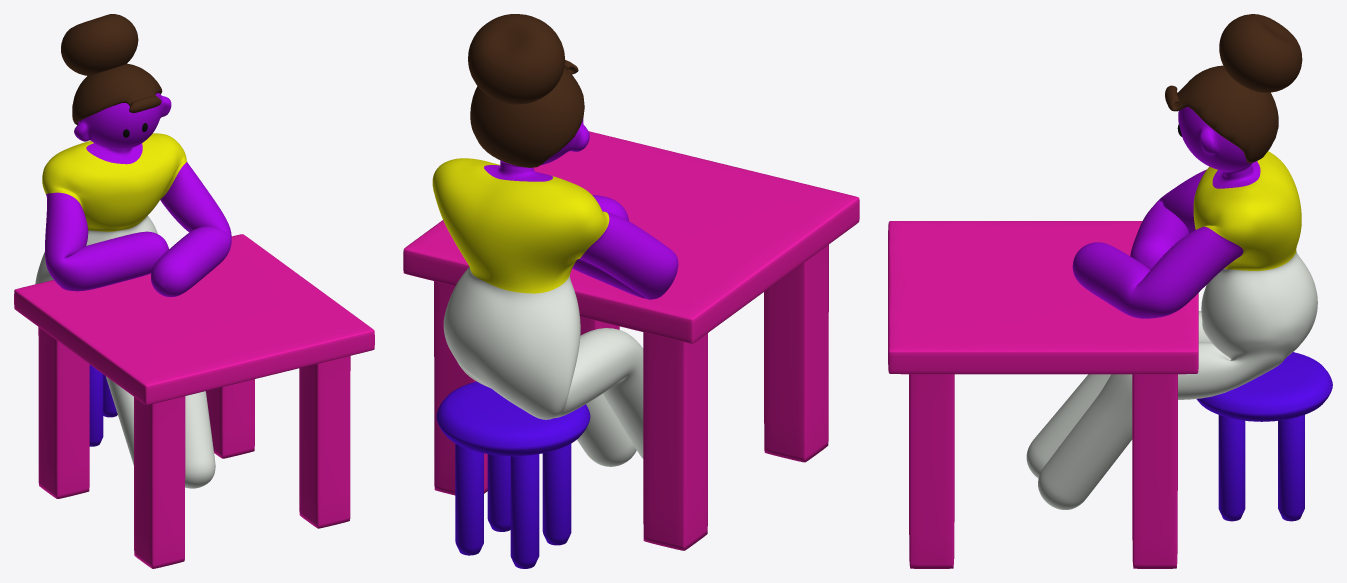
Rendered from personnage.fbx.
3 renders of one model, left to right at view 1: azimuth 30°, elevation 25°; view 2: azimuth 150°, elevation 25°; view 3: azimuth 270°, elevation 25°, orthographic. The views are drawn at different scales.
Visible parts, largest first — view 1: Plane.001, Body, Hairs, Cylinder; view 2: Plane.001, Body, Hairs, Cylinder, Circle.001; view 3: Plane.001, Body, Hairs, Cylinder, Circle.001.
Part boxes in pixels (x1=…): Plane.001: x1=14, y1=234, x2=374, y2=568; Body: x1=35, y1=93, x2=231, y2=488; Hairs: x1=61, y1=14, x2=162, y2=125; Cylinder: x1=89, y1=364, x2=117, y2=446; Plane.001: x1=403, y1=131, x2=859, y2=550; Body: x1=432, y1=119, x2=678, y2=466; Hairs: x1=468, y1=14, x2=584, y2=167; Cylinder: x1=455, y1=443, x2=571, y2=568; Circle.001: x1=436, y1=381, x2=590, y2=456; Plane.001: x1=888, y1=221, x2=1198, y2=568; Body: x1=1026, y1=107, x2=1317, y2=509; Hairs: x1=1165, y1=14, x2=1302, y2=163; Cylinder: x1=1218, y1=415, x2=1304, y2=521; Circle.001: x1=1196, y1=352, x2=1332, y2=421.
Bounding box in the file's own units: 200 × 350 × 286.
